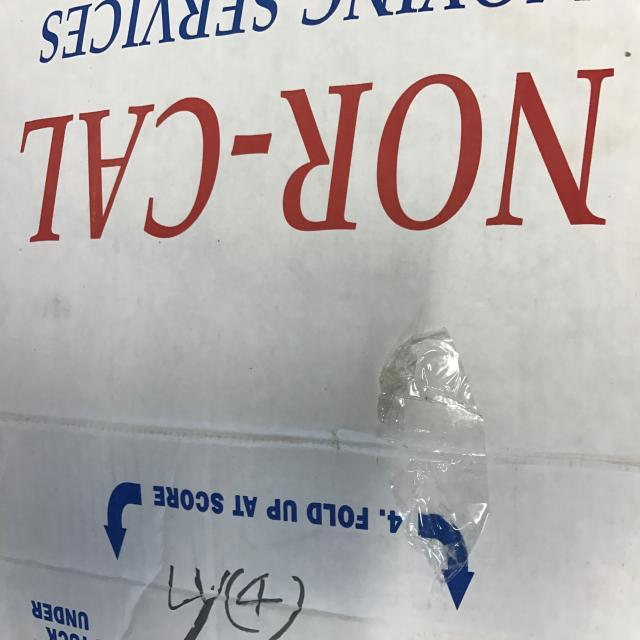cardboard: (1, 1, 638, 638), (0, 49, 640, 640)
